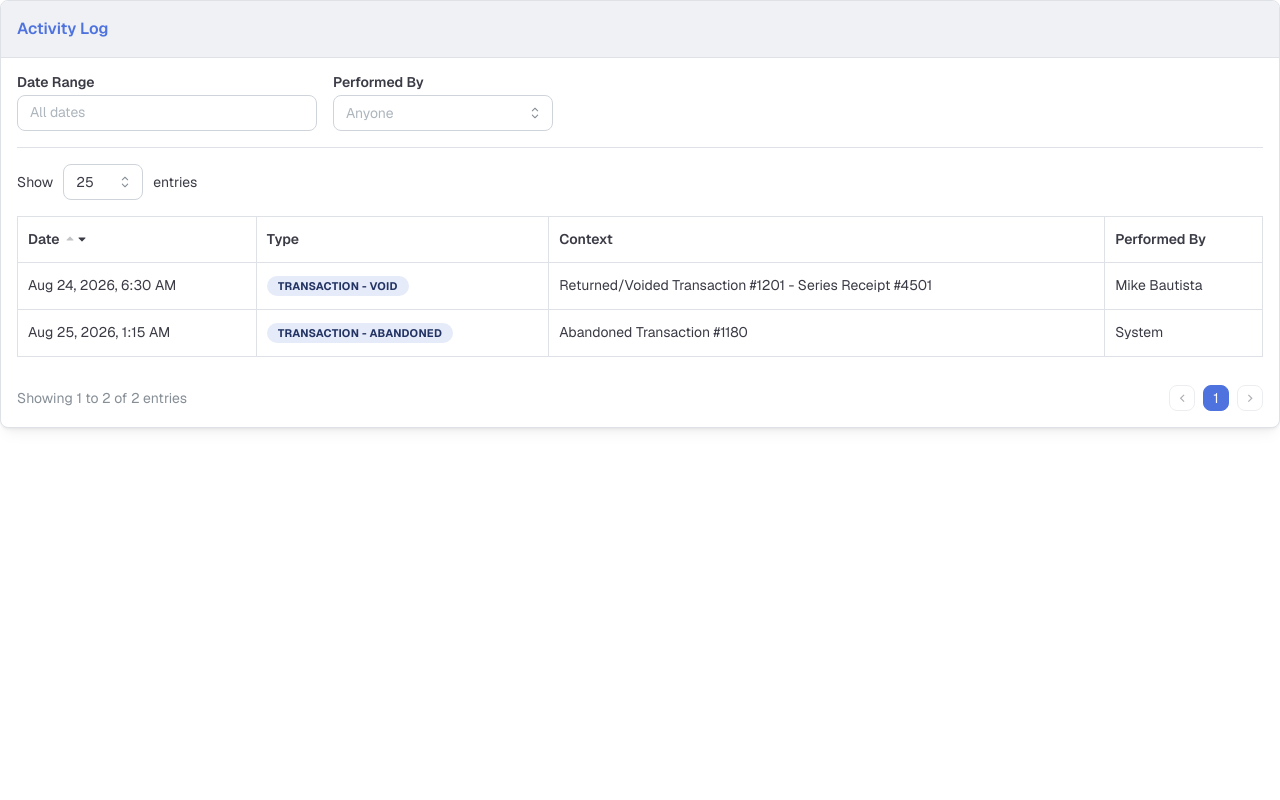
Test case: ActivityLogPage — the detail drawer › says a deleted subject is gone rather than linking to it
Click the text "Returned/Voided Transaction #1201 - Series Receipt #4501" at x=827, y=286, box left=549, top=263, right=1105, bottom=310
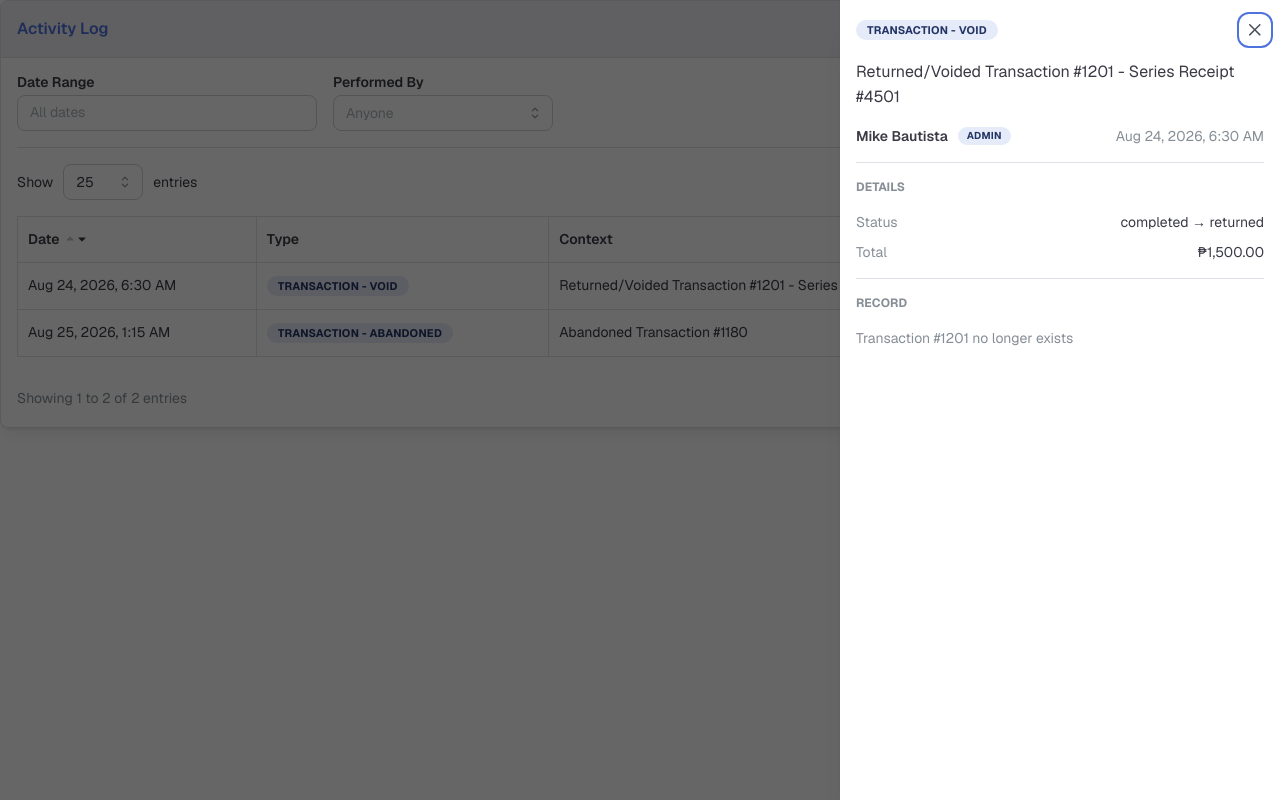
Expected: the text "Transaction #1201 no longer exists" is shown, left=856, top=329, right=1073, bottom=347
